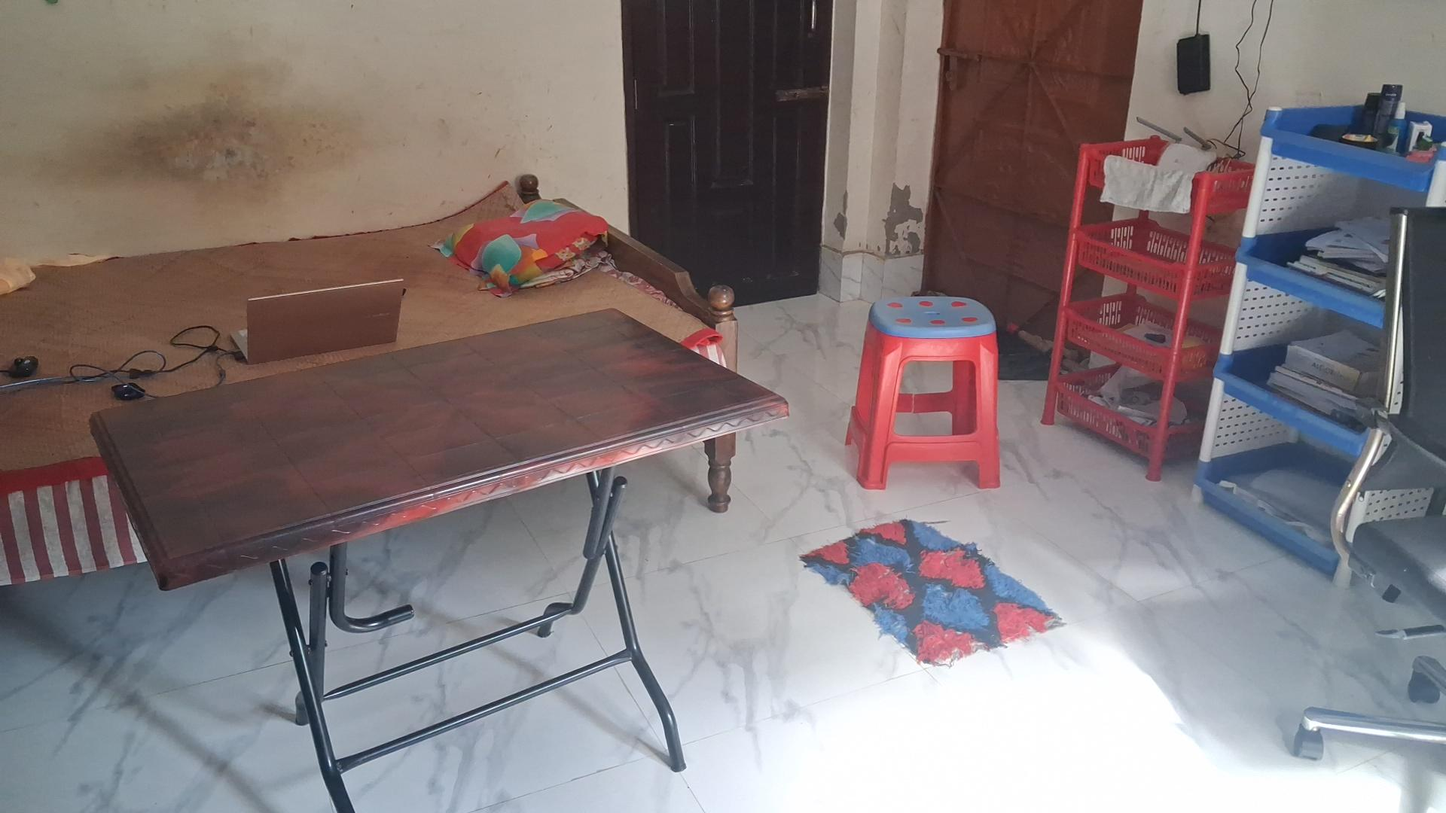Door: (927, 0, 1138, 347), (617, 0, 828, 307)
Floor Mat: (794, 516, 1061, 667)
Laptop: (221, 275, 425, 351)
Pillow: (435, 199, 605, 298)
Rack: (1195, 87, 1446, 582), (1043, 136, 1259, 492)
Stool: (846, 298, 1004, 490)
Table: (87, 308, 789, 813)
